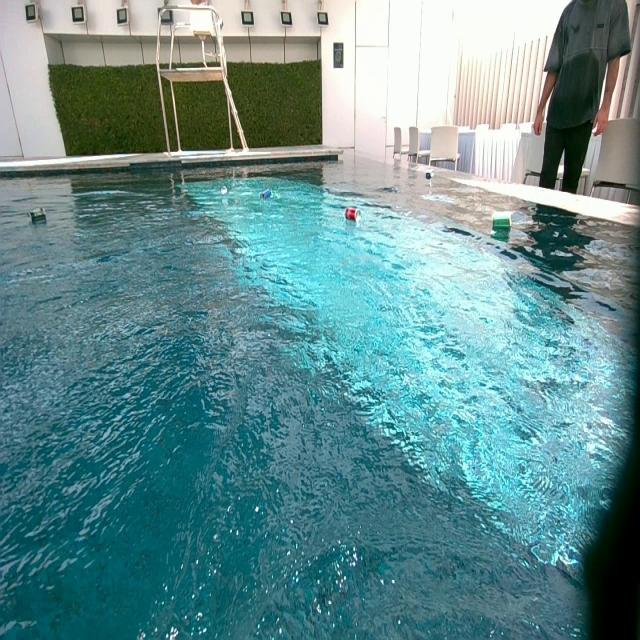Cans: (492, 212, 513, 230), (29, 207, 46, 224), (346, 208, 360, 222), (262, 188, 274, 200), (424, 170, 432, 180), (220, 185, 228, 195)
